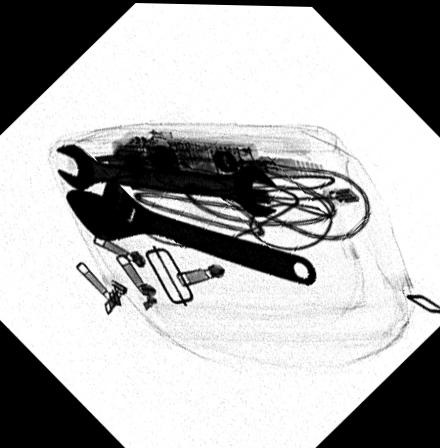Wrench: (62, 169, 321, 284), (51, 140, 276, 214)
